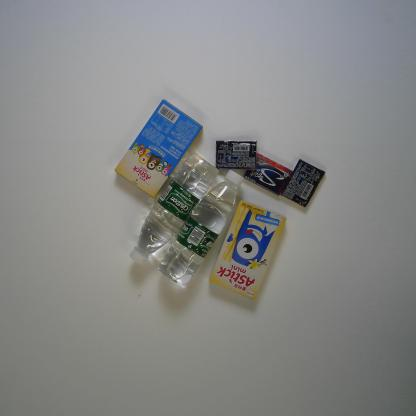Dessert: (114, 98, 204, 199), (208, 199, 287, 300)
Drink: (129, 152, 220, 266), (157, 169, 245, 286)
Gum: (280, 158, 326, 209), (243, 152, 293, 197), (215, 140, 257, 170)
